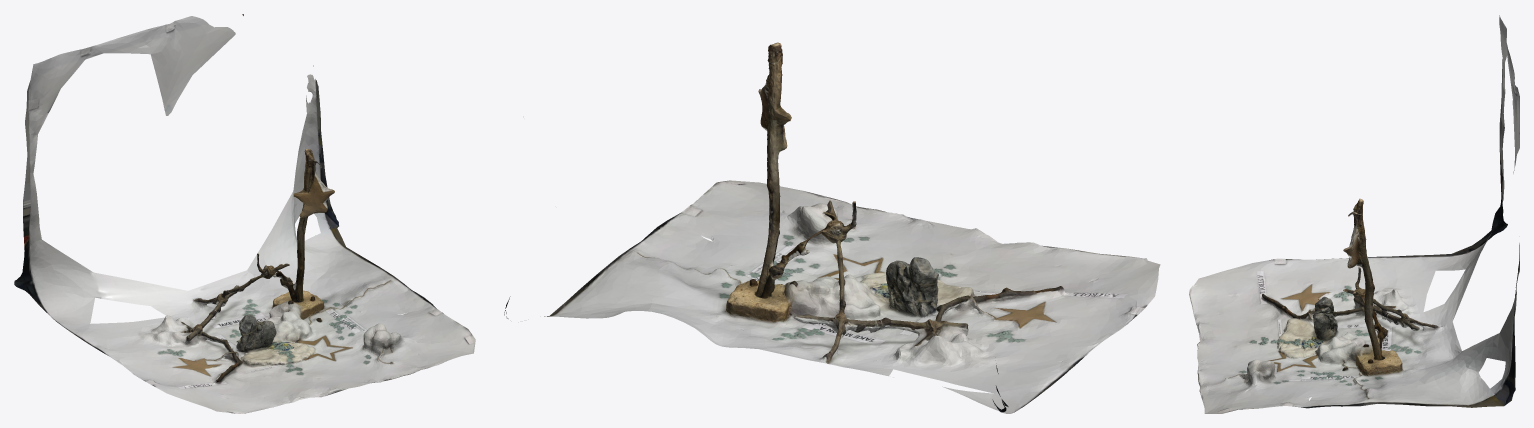
3 views of the same model, side by side, from view 1: azimuth 30°, elevation 25°; view 2: azimuth 150°, elevation 25°; view 3: azimuth 270°, elevation 25° (orthographic). The views are drawn at different scales.
Bounding box in the file's own units: 1.42 × 1.07 × 1.24.
Materials: 1 (1 with a texture image).
